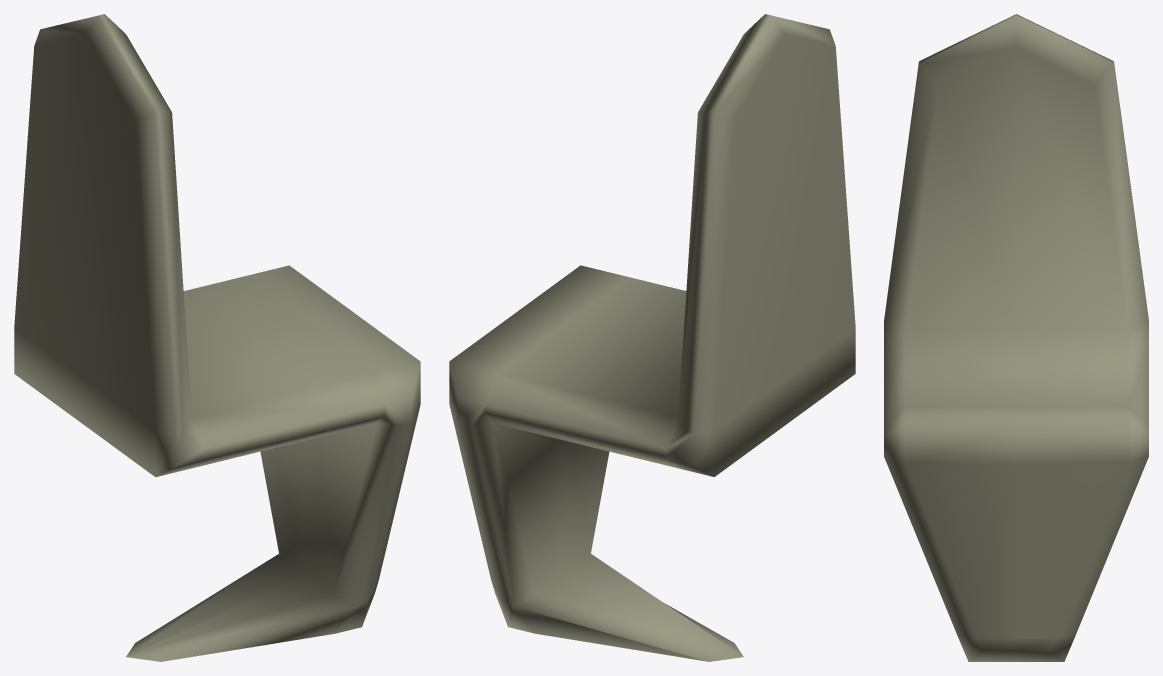
File: lvl1_dining_chair.fbx
3 renders of one model, left to right at view 1: azimuth 30°, elevation 25°; view 2: azimuth 150°, elevation 25°; view 3: azimuth 270°, elevation 25°, orthographic. The views are drawn at different scales.
Visible parts, largest first — view 1: dining_chair; view 2: dining_chair; view 3: dining_chair.
Part boxes in pixels (x1,y1,x2,y2): dining_chair: (14, 14, 420, 661); dining_chair: (449, 14, 855, 661); dining_chair: (884, 14, 1148, 661).
Size of the model in its own units: 178 by 408 by 178.
